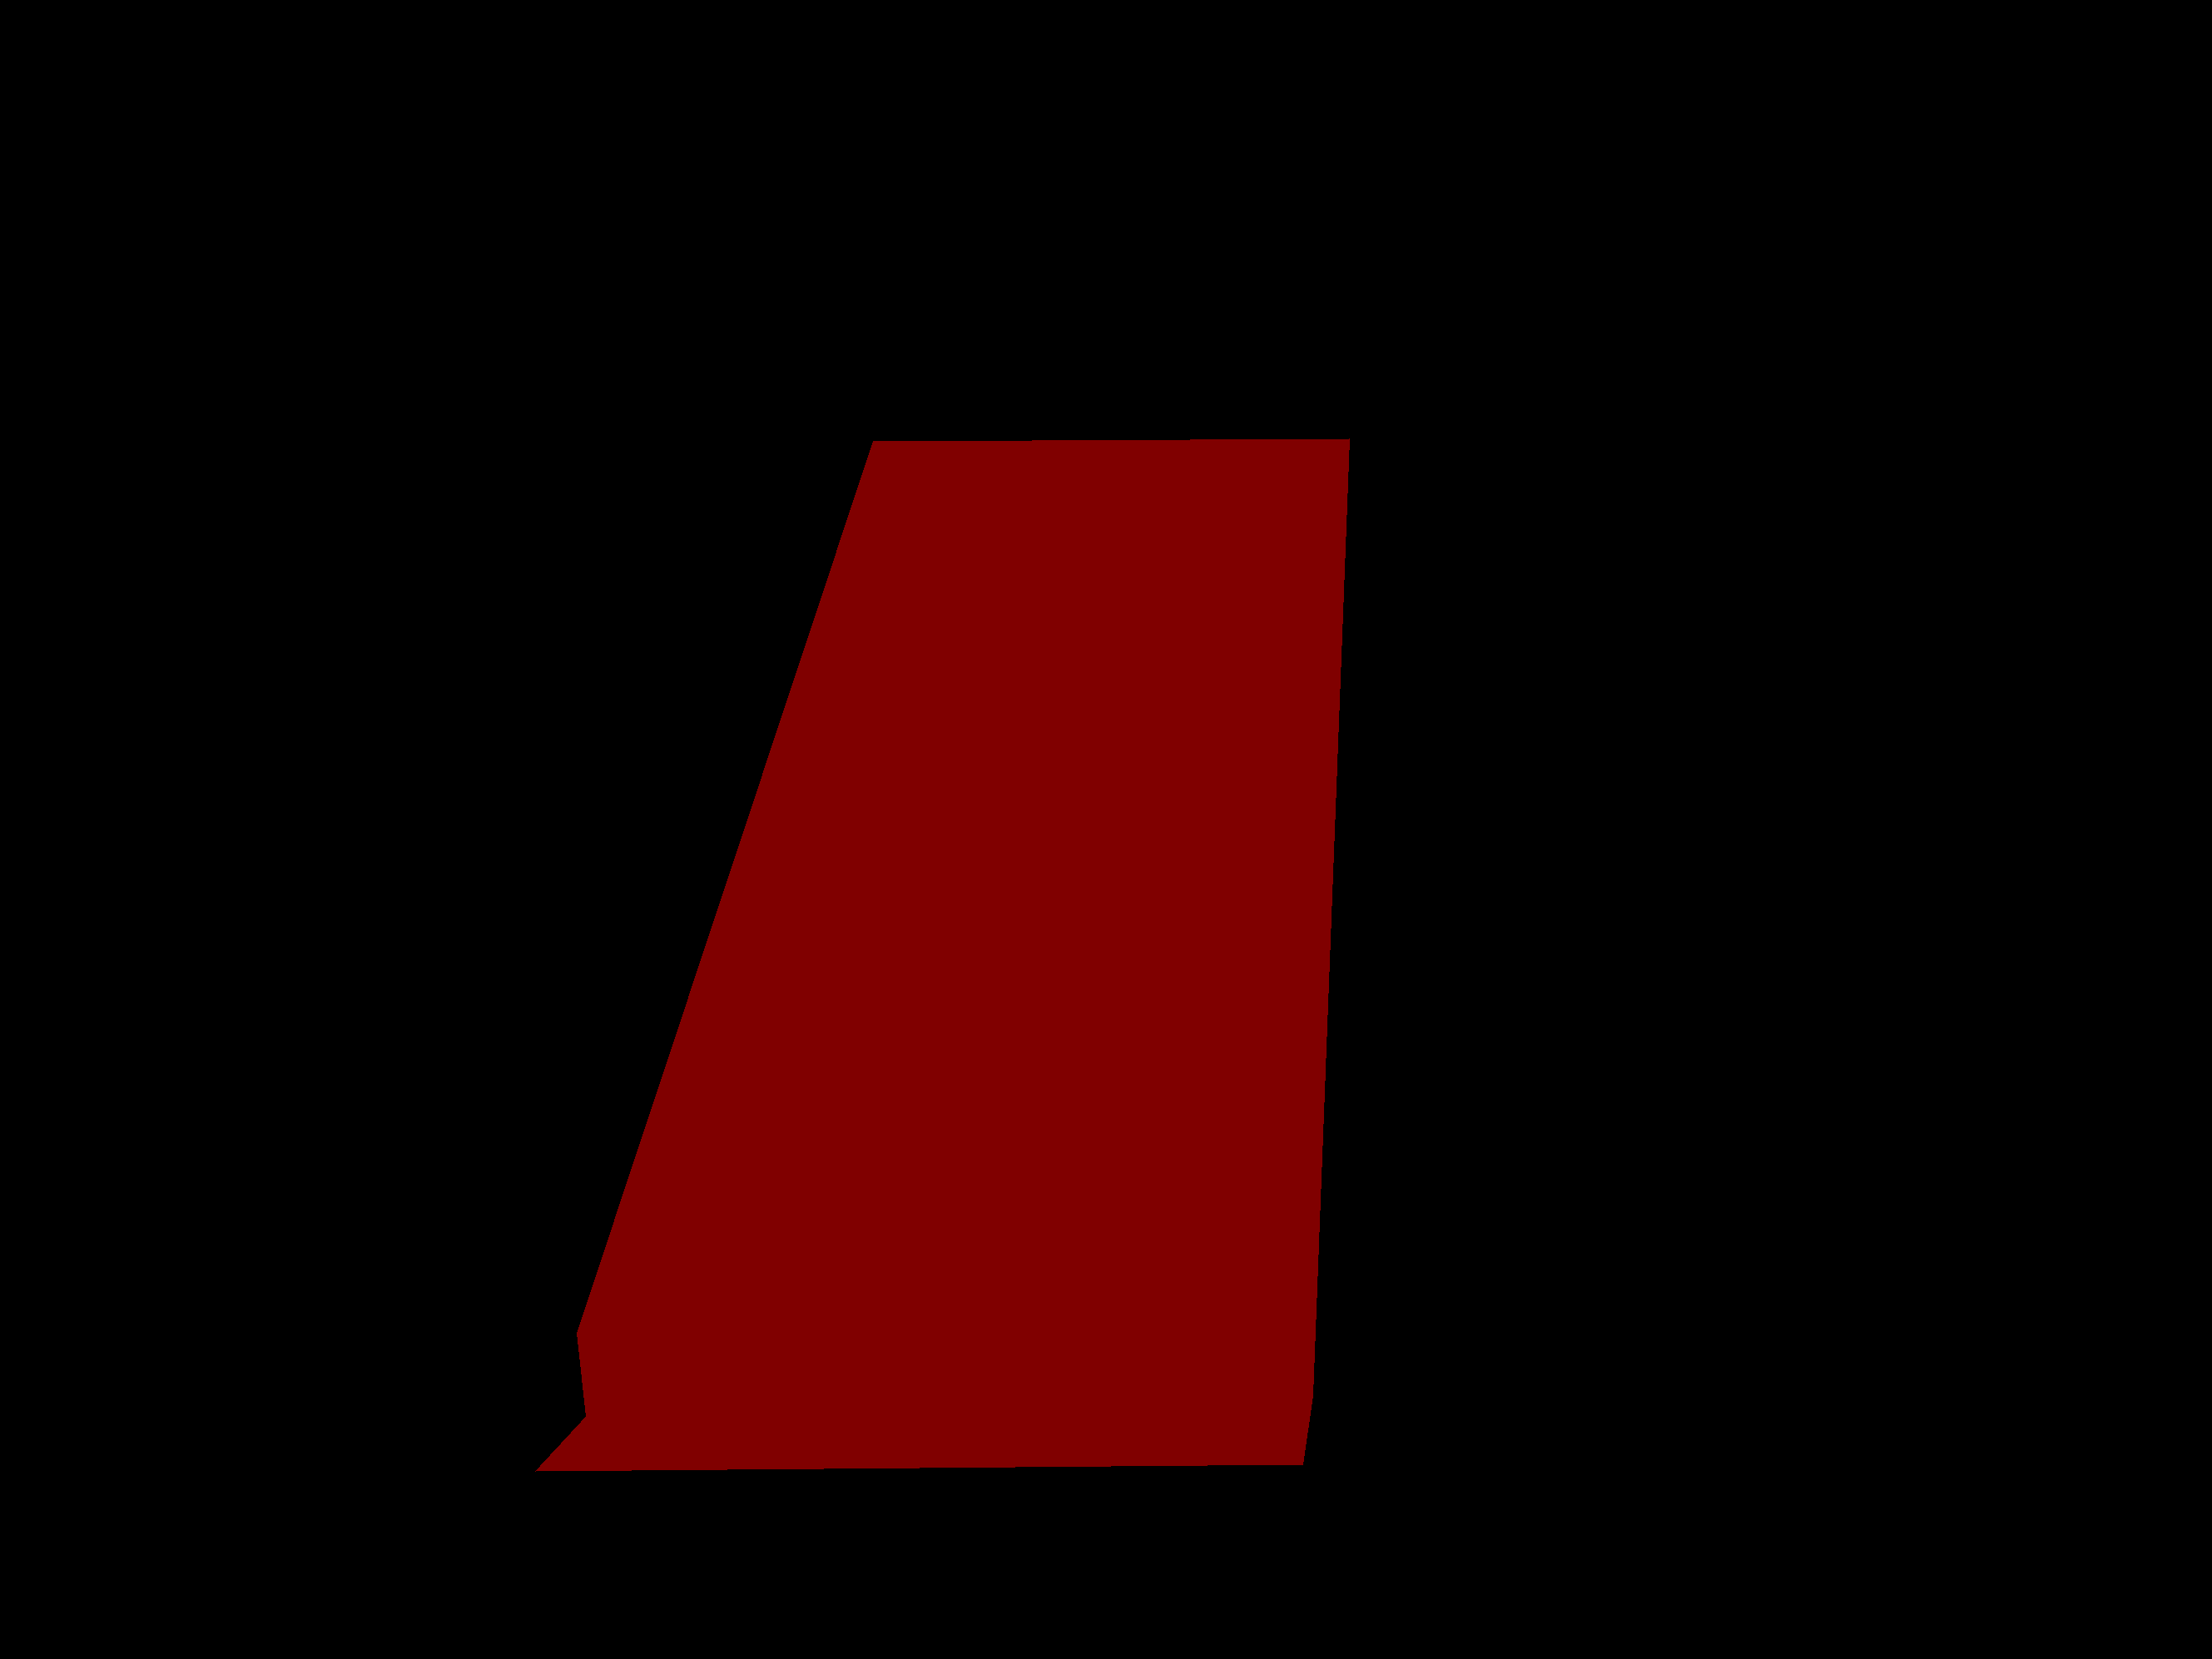stair: (535, 439, 1349, 1471)
